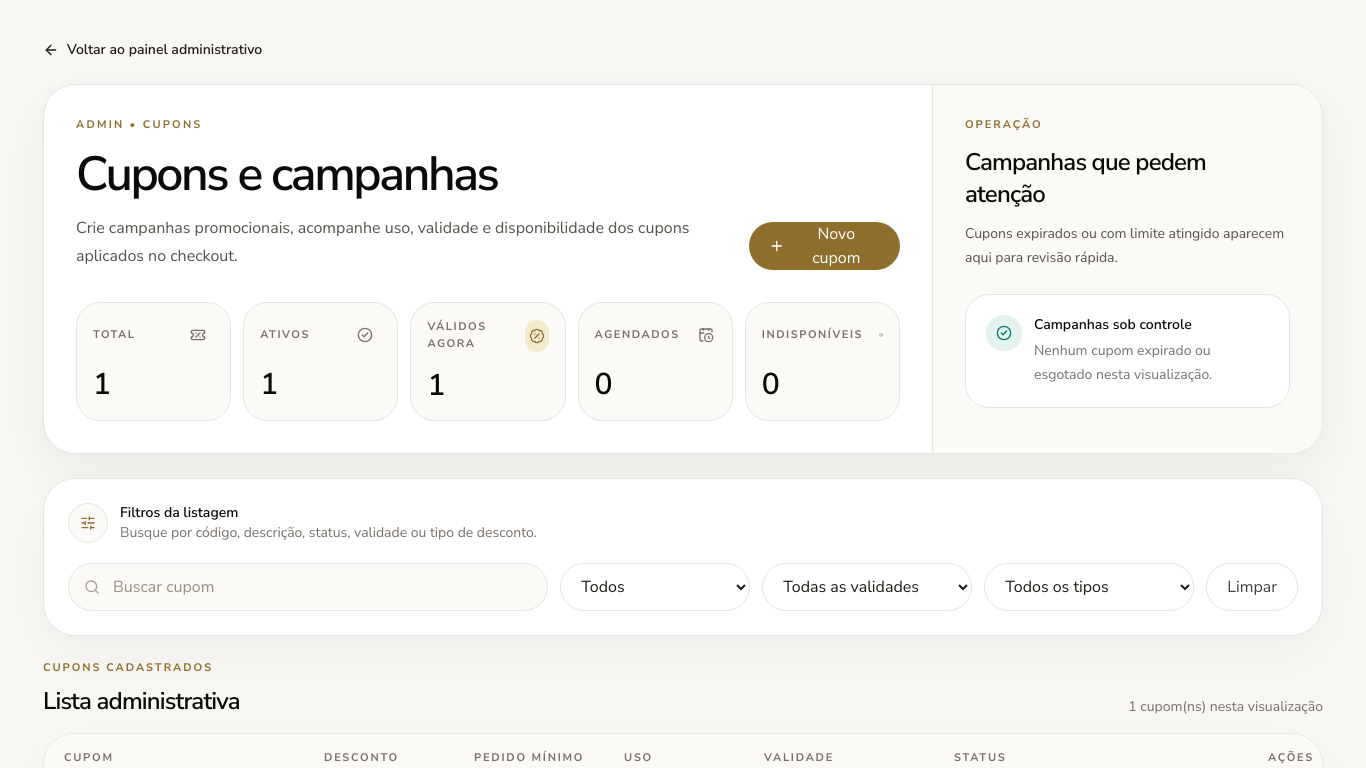
Test case: AdminCouponsPage › abre formulário de novo cupom
Click the button "Novo cupom".
click(825, 246)  # box [749,222,900,270]
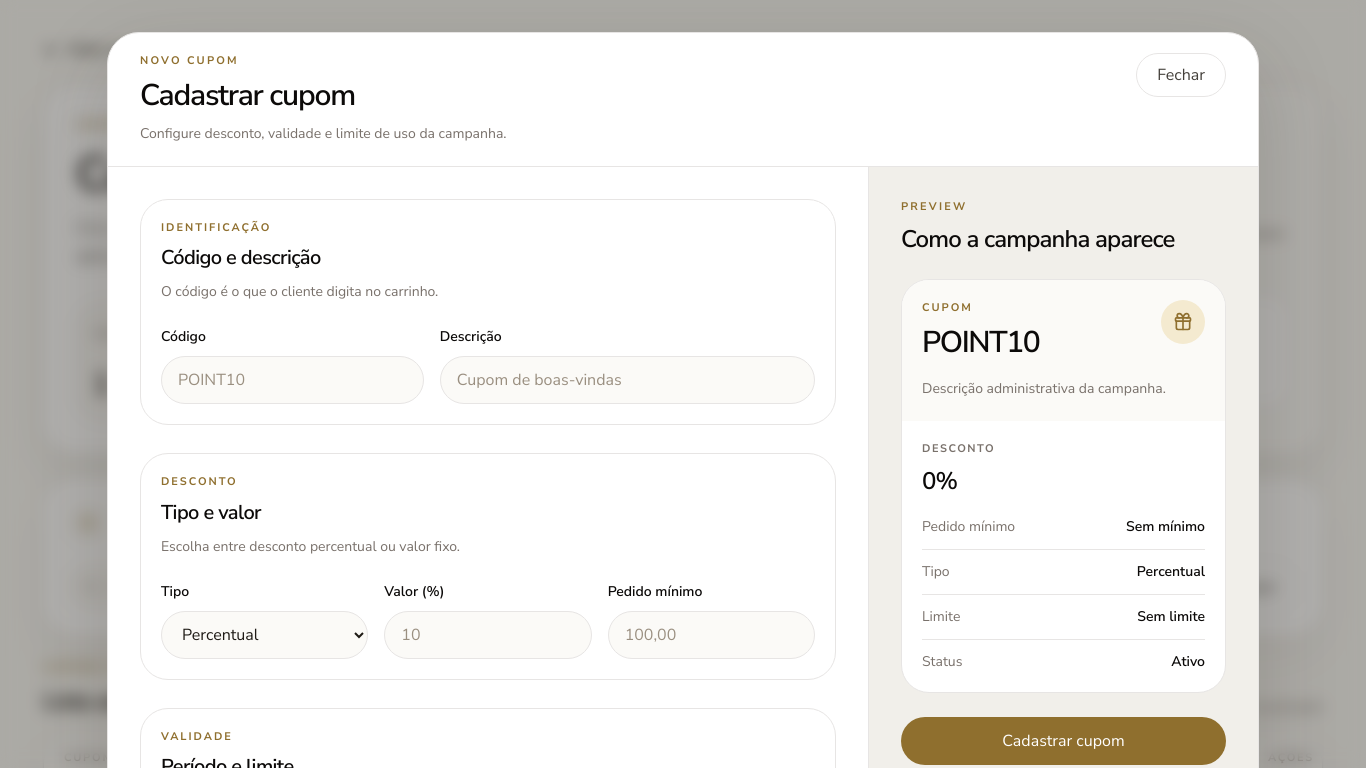
Expected: the heading "Cadastrar cupom" is shown, [140,74,355,116]
Expected: the text "Identificação" is shown, [161,220,272,234]
